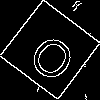O: (25, 24, 85, 86)
